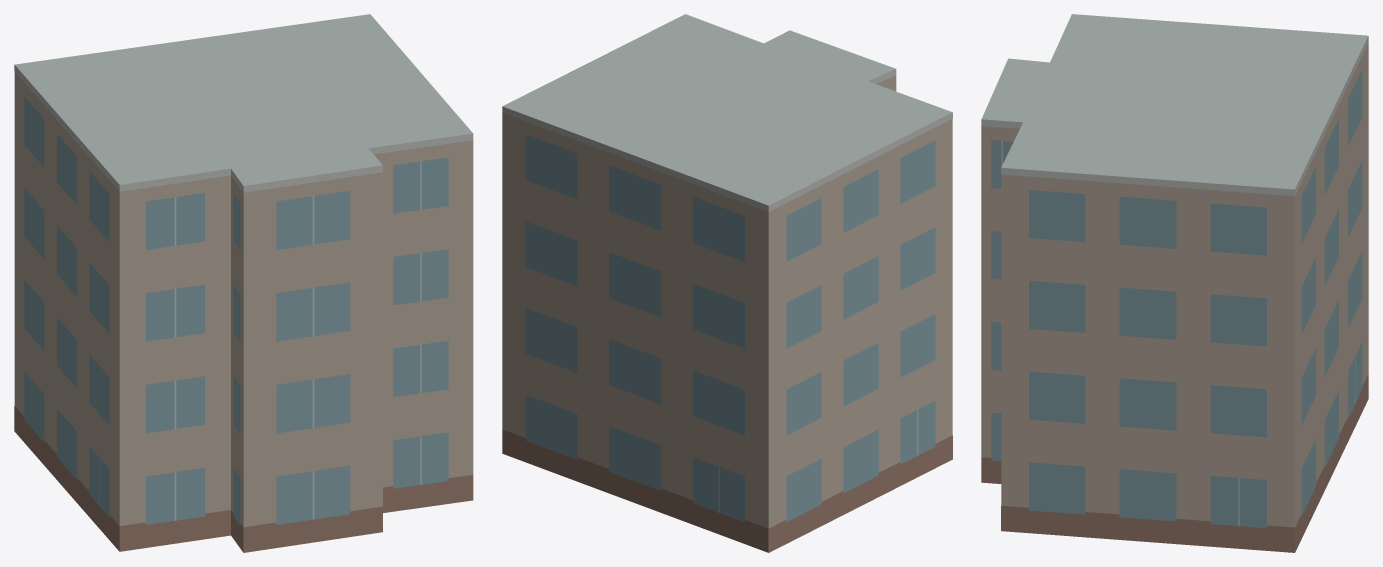
File: survey-upis-32678711.glb
3 views of the same model, side by side, from view 1: azimuth 30°, elevation 25°; view 2: azimuth 150°, elevation 25°; view 3: azimuth 270°, elevation 25° (orthographic). The views are drawn at different scales.
Visible parts, largest first — view 1: survey-upis-32678711.tmp; view 2: survey-upis-32678711.tmp; view 3: survey-upis-32678711.tmp.
Part boxes in pixels (bbox=[...]): survey-upis-32678711.tmp: bbox=[14, 14, 473, 552]; survey-upis-32678711.tmp: bbox=[502, 14, 952, 552]; survey-upis-32678711.tmp: bbox=[981, 14, 1368, 552].
Size of the model in its own units: 13.69 by 13.2 by 12.76.
